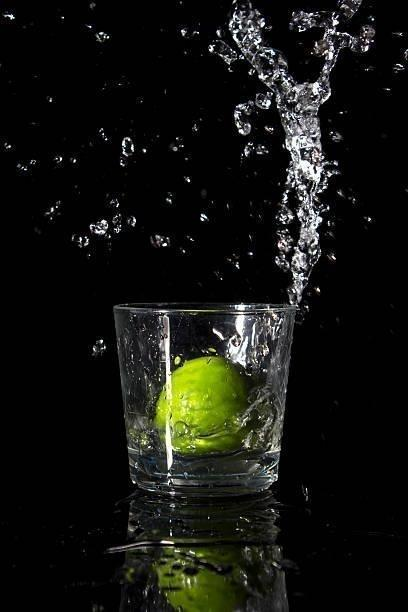glass-normal: (110, 297, 300, 501)
